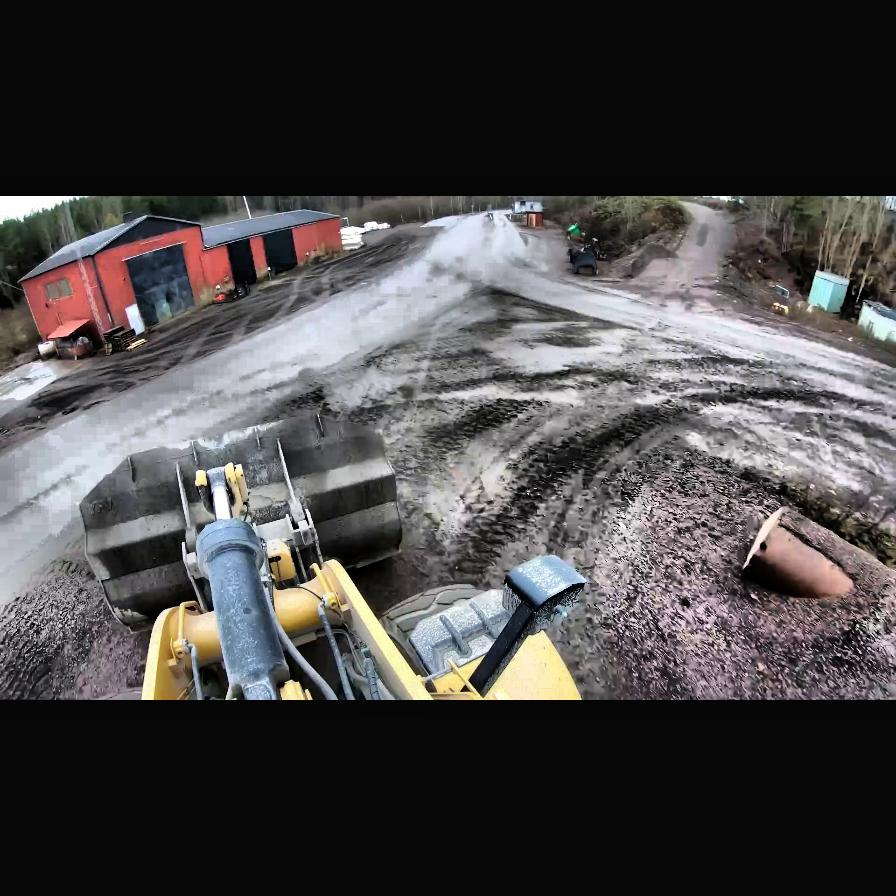anchor: (196, 461, 248, 520)
